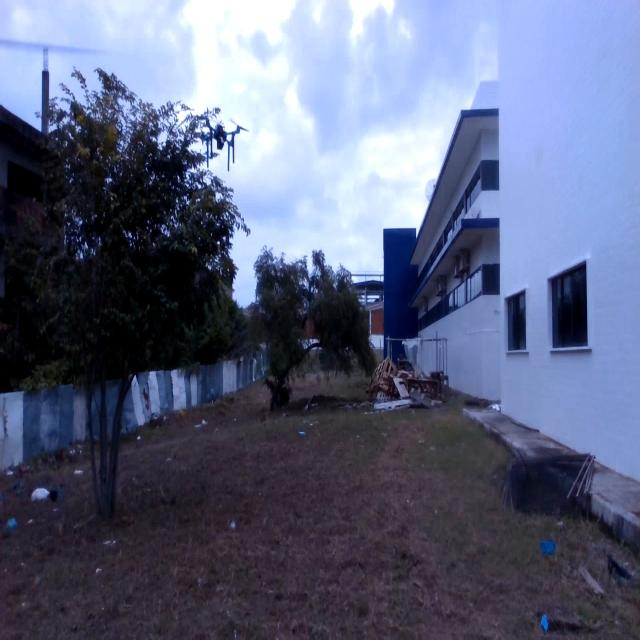-uav-: (188, 99, 248, 181)
